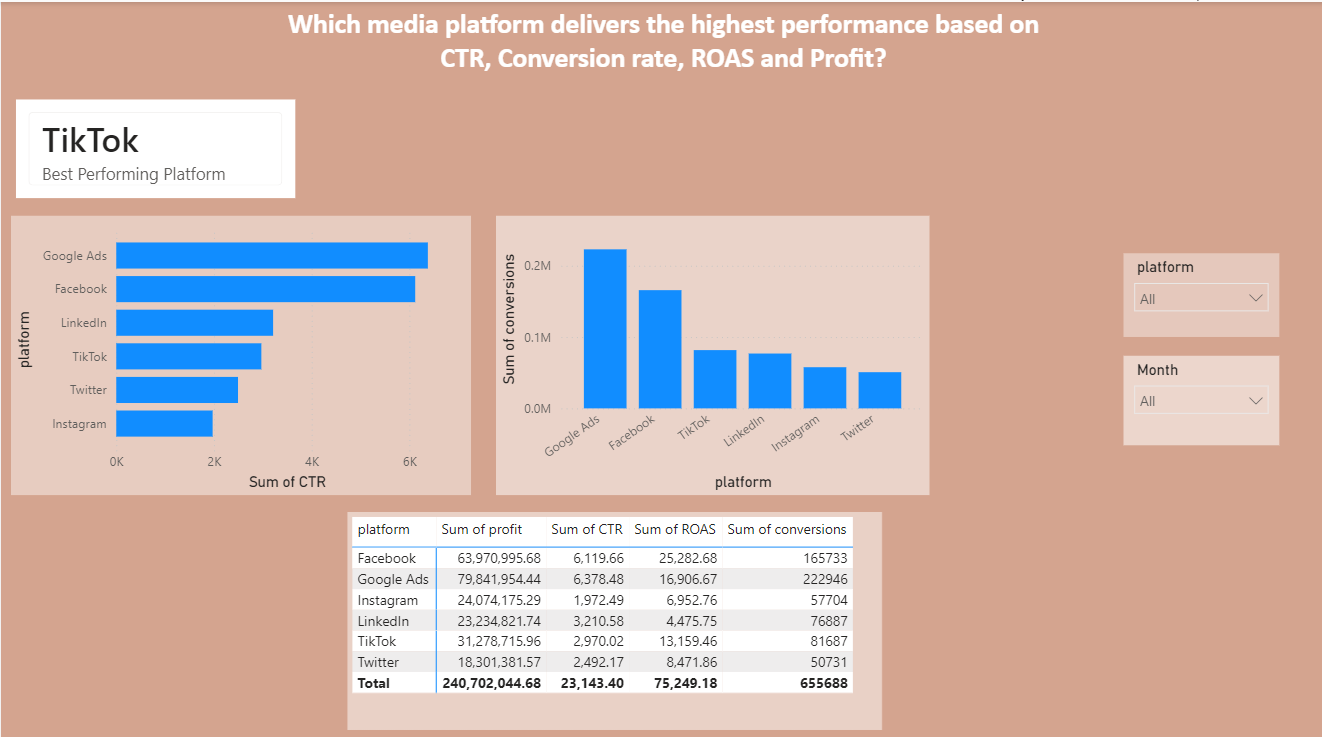

The page's visual inventory and layout, read from the dashboard file:
{"tool":"powerbi","page":{"name":"OBJ 3","canvas":[1280,720],"ordinal":3},"visuals":[{"type":"cardVisual","fields":{"Data":["Tech_Project_Wrk.Best Performing Platform"]},"box":[9.7,89,279.7,105.7],"z":0},{"type":"clusteredBarChart","fields":{"Category":["Tech_Project_Wrk.platform"],"Y":["Sum(Tech_Project_Wrk.CTR)"]},"box":[9.7,205.9,443.8,269.9],"z":1000},{"type":"clusteredColumnChart","fields":{"Category":["Tech_Project_Wrk.platform"],"Y":["Sum(Tech_Project_Wrk.conversions)"]},"box":[477.2,205.9,418.8,269.9],"z":2000},{"type":"pivotTable","fields":{"Rows":["Tech_Project_Wrk.platform"],"Values":["Sum(Tech_Project_Wrk.profit)","Sum(Tech_Project_Wrk.CTR)","Sum(Tech_Project_Wrk.ROAS)","Sum(Tech_Project_Wrk.conversions)"]},"box":[333.9,492.5,516.2,210.1],"z":3000},{"type":"slicer","fields":{"Values":["Tech_Project_Wrk.platform"]},"box":[1083.8,242.1,150.3,80.7],"z":4000},{"type":"textbox","box":[263,0,752.7,89],"z":7000},{"type":"slicer","fields":{"Values":["Tech_Project_Wrk.Month"]},"box":[1083.8,340.9,150.3,86.3],"z":8000}]}

Visuals, with their boxes in screenshot pixels (x1, y1, x2, y2), scaled from the page's 1280x720 canvas onto the 1322x737 screenshot:
cardVisual - Tech_Project_Wrk.Best Performing Platform: bbox=(10, 91, 299, 199)
clusteredBarChart - Tech_Project_Wrk.platform x Sum(Tech_Project_Wrk.CTR): bbox=(10, 211, 468, 487)
clusteredColumnChart - Tech_Project_Wrk.platform x Sum(Tech_Project_Wrk.conversions): bbox=(493, 211, 925, 487)
pivotTable - Tech_Project_Wrk.platform x Sum(Tech_Project_Wrk.profit): bbox=(345, 504, 878, 719)
slicer - Tech_Project_Wrk.platform: bbox=(1119, 248, 1275, 330)
textbox: bbox=(272, 0, 1049, 91)
slicer - Tech_Project_Wrk.Month: bbox=(1119, 349, 1275, 437)
